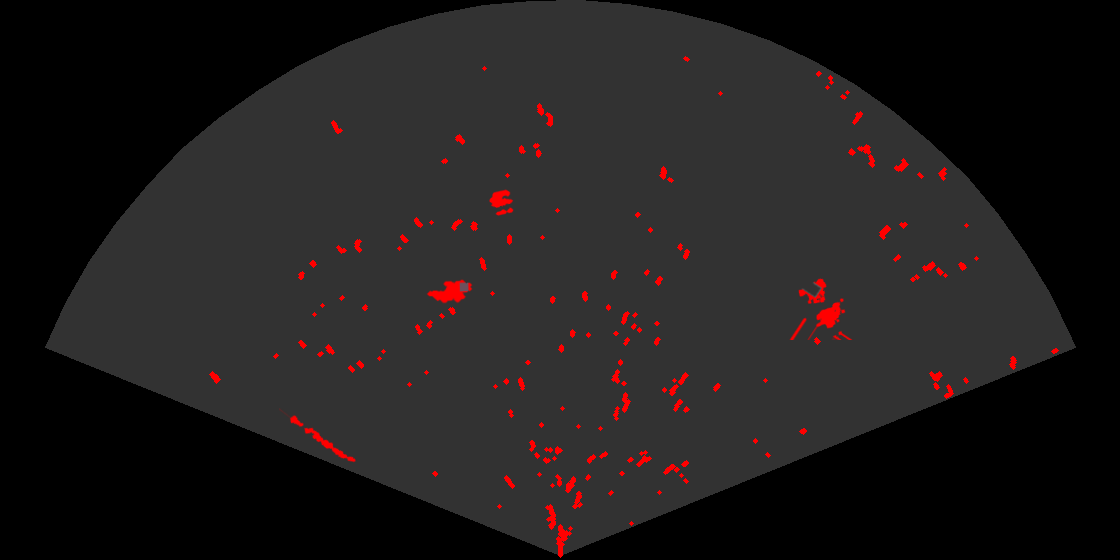AUV: (425, 278, 474, 304)
ball: (488, 188, 515, 217)
cage: (788, 277, 854, 340)
chain: (279, 408, 357, 464)
